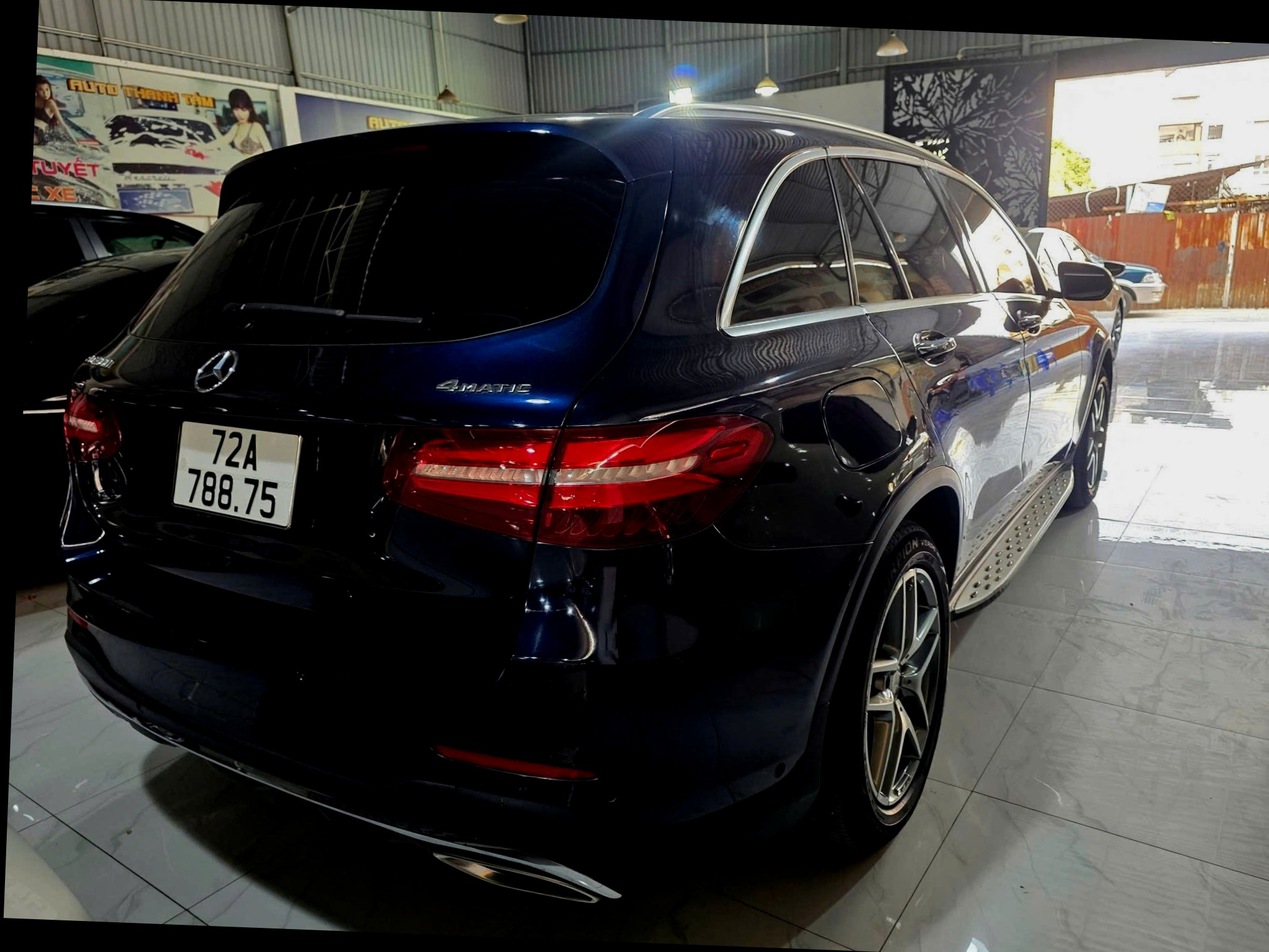Bien-so: (170, 416, 306, 526)
